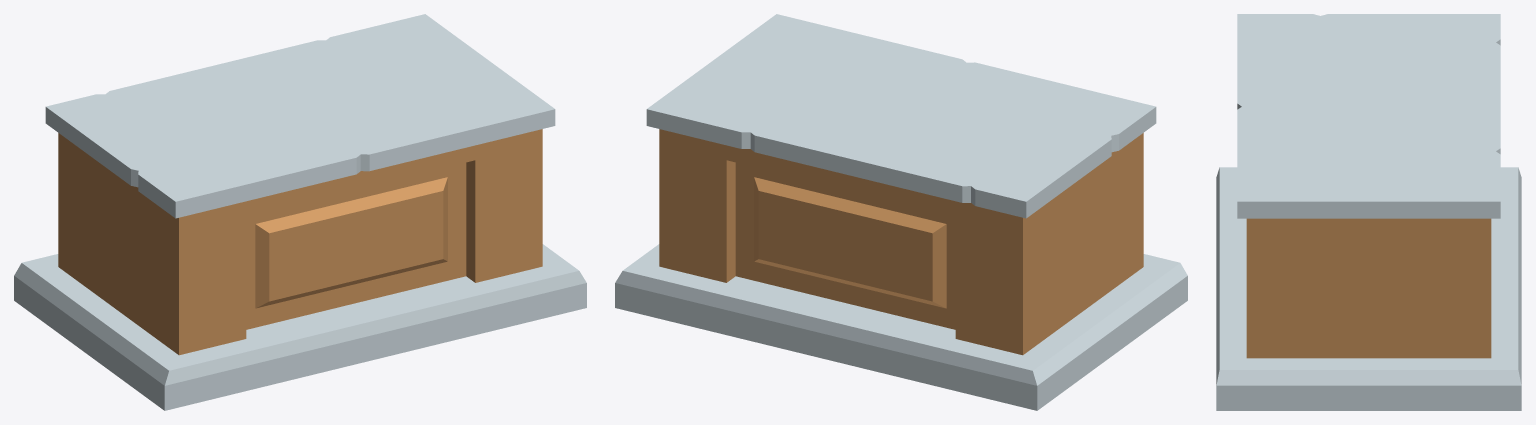
The model's file is altarWood.fbx.
3 views of the same model, side by side, from view 1: azimuth 30°, elevation 25°; view 2: azimuth 150°, elevation 25°; view 3: azimuth 270°, elevation 25° (orthographic).
Parts seen in each view (by area): view 1: altarWood; view 2: altarWood; view 3: altarWood.
Boxes of the visible parts, x1,y1,x2,y2 form: altarWood: (14,14,586,410); altarWood: (615,14,1187,410); altarWood: (1216,14,1521,410).
Size of the model in its own units: 10.57 by 4.7 by 6.53.
